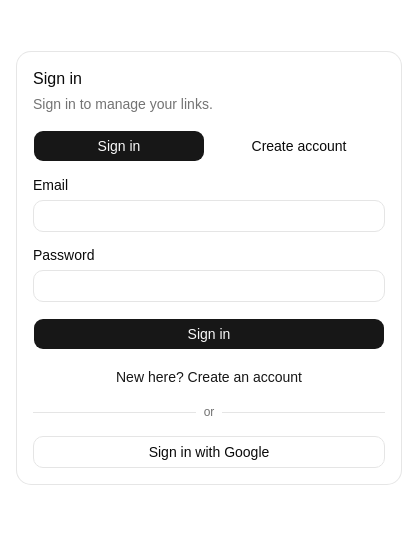
Test: LoginPage › switches to the register form when the "Create account" toggle is clicked
Click the button "Create account" at point(299, 146), box [213,130,385,162]
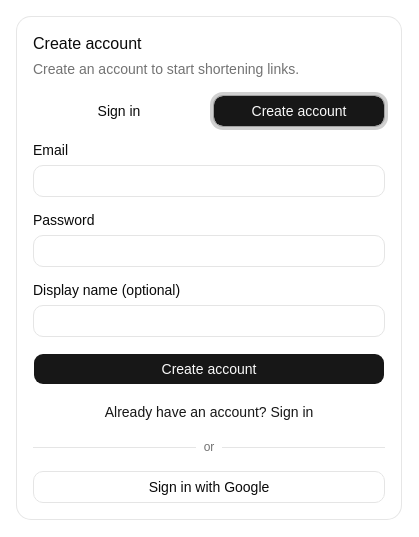
Now the field labelled "Display name (optional)" is shown, box [33,305,385,337]
